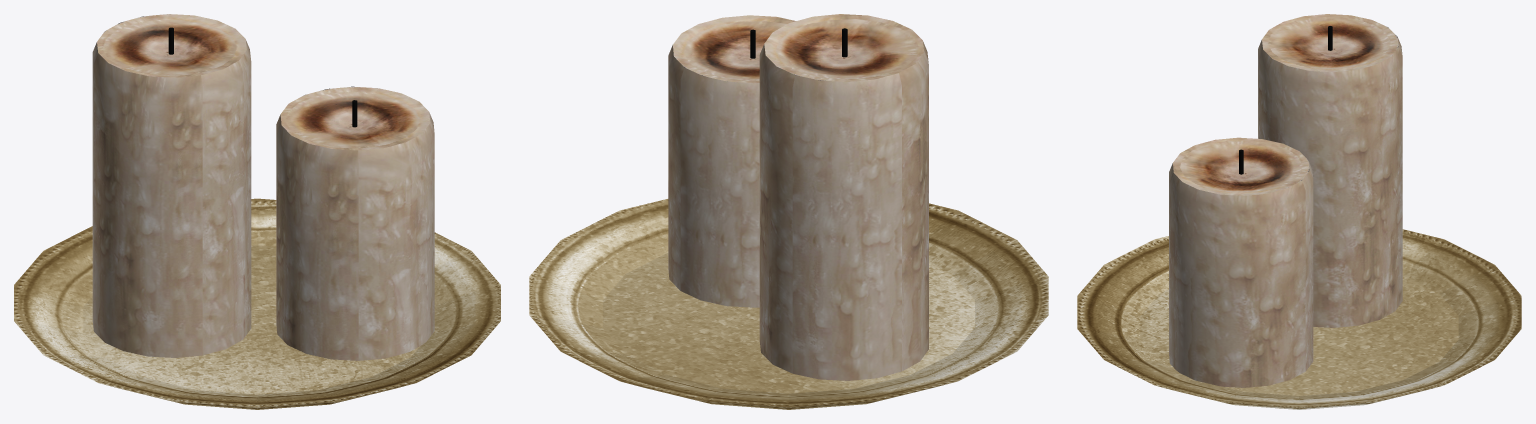
The model's file is Candles.FBX.
3 views of the same model, side by side, from view 1: azimuth 30°, elevation 25°; view 2: azimuth 150°, elevation 25°; view 3: azimuth 270°, elevation 25° (orthographic). The views are drawn at different scales.
Parts seen in each view (by area): view 1: Candle, Candle 2, Tray; view 2: Candle, Tray, Candle 2; view 3: Tray, Candle 2, Candle.
Boxes of the visible parts, box(x1,y1,x2,y2) form: Candle: box(92, 14, 251, 357); Candle 2: box(276, 86, 434, 360); Tray: box(14, 198, 500, 409); Candle: box(759, 14, 928, 380); Tray: box(529, 199, 1048, 409); Candle 2: box(668, 15, 795, 307); Tray: box(1077, 229, 1521, 409); Candle 2: box(1169, 137, 1313, 387); Candle: box(1258, 14, 1402, 327).
Bounding box in the file's own units: 8.99 × 6.16 × 8.85.
Materials: 2 (2 with a texture image).
